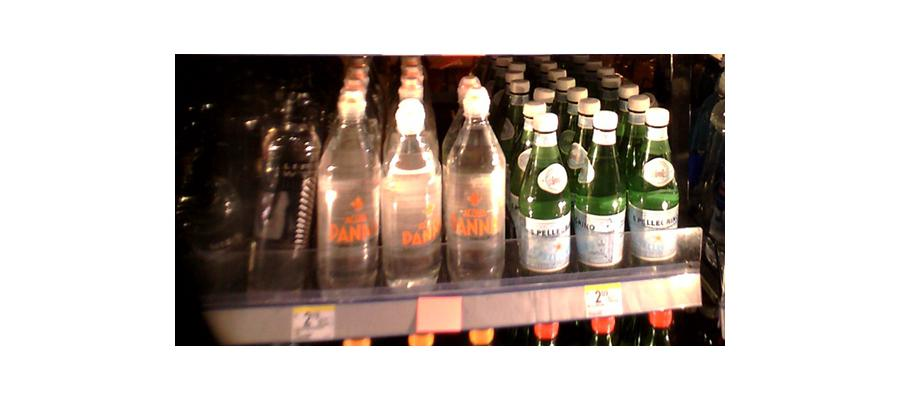bottle: (313, 71, 378, 296), (249, 84, 317, 298), (444, 90, 505, 289), (380, 107, 441, 295), (518, 109, 573, 281), (178, 147, 243, 291), (577, 109, 630, 271), (630, 104, 678, 268)
